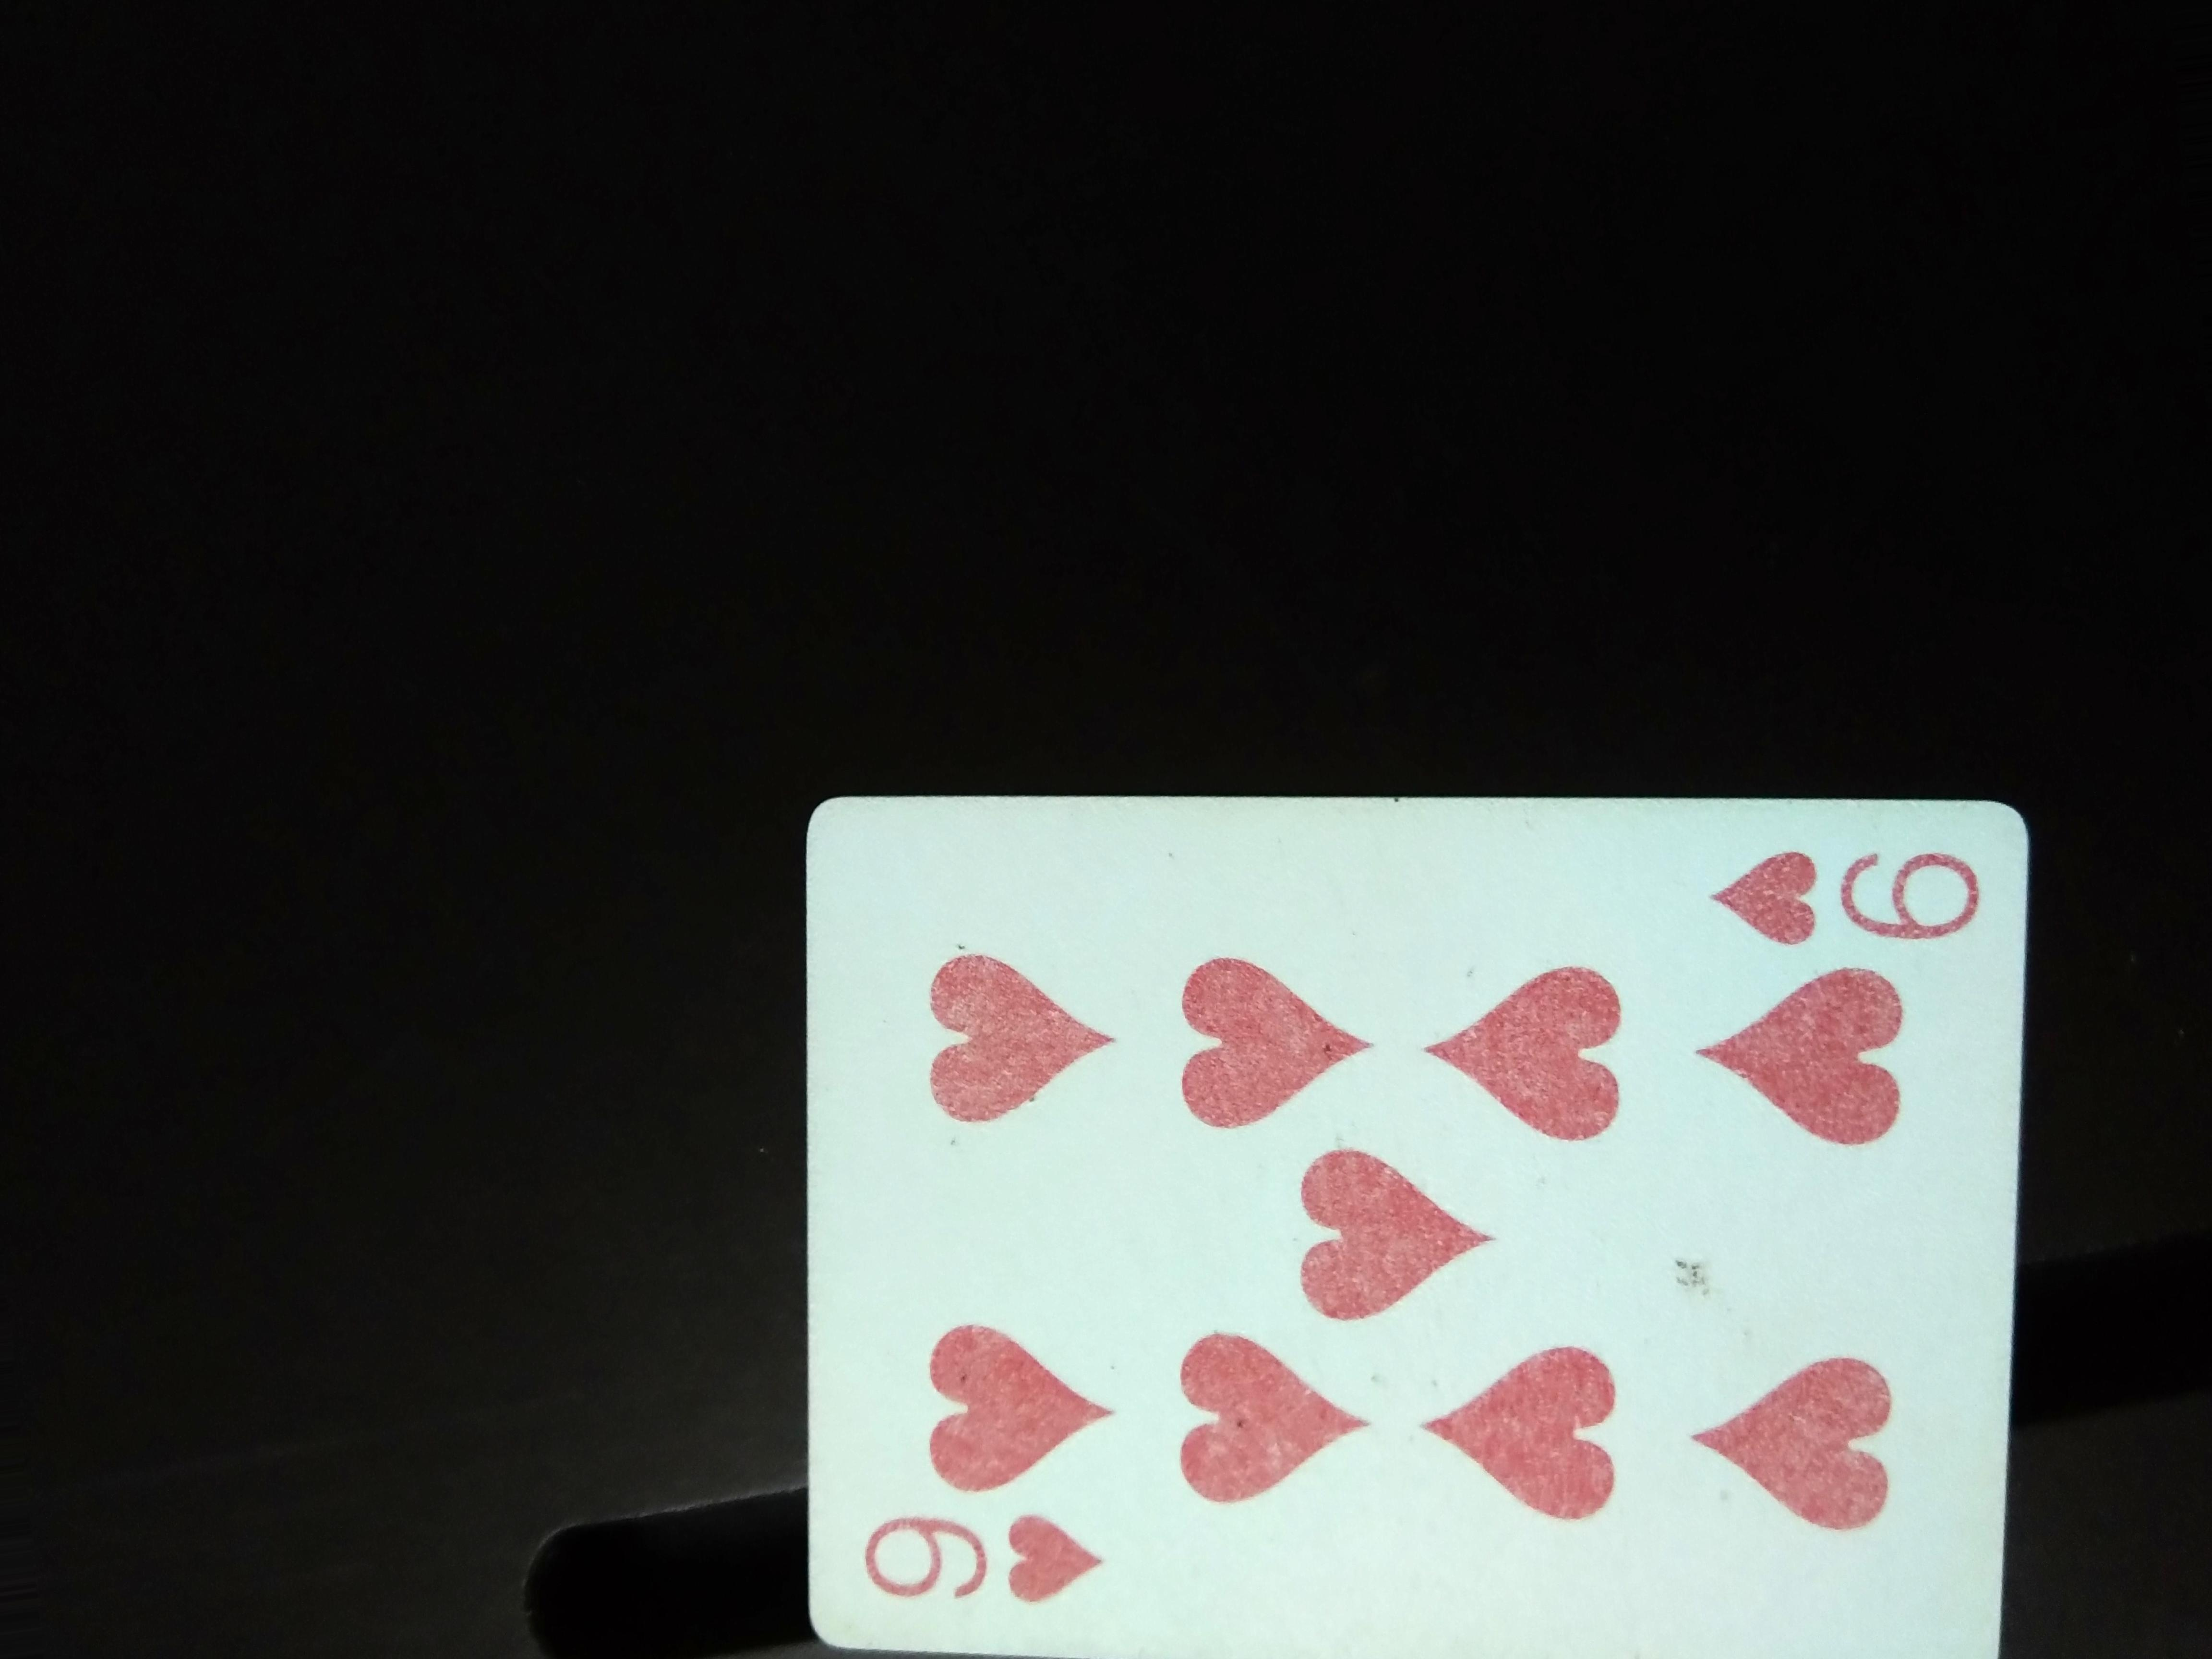9H: (810, 1509, 1099, 1645)
